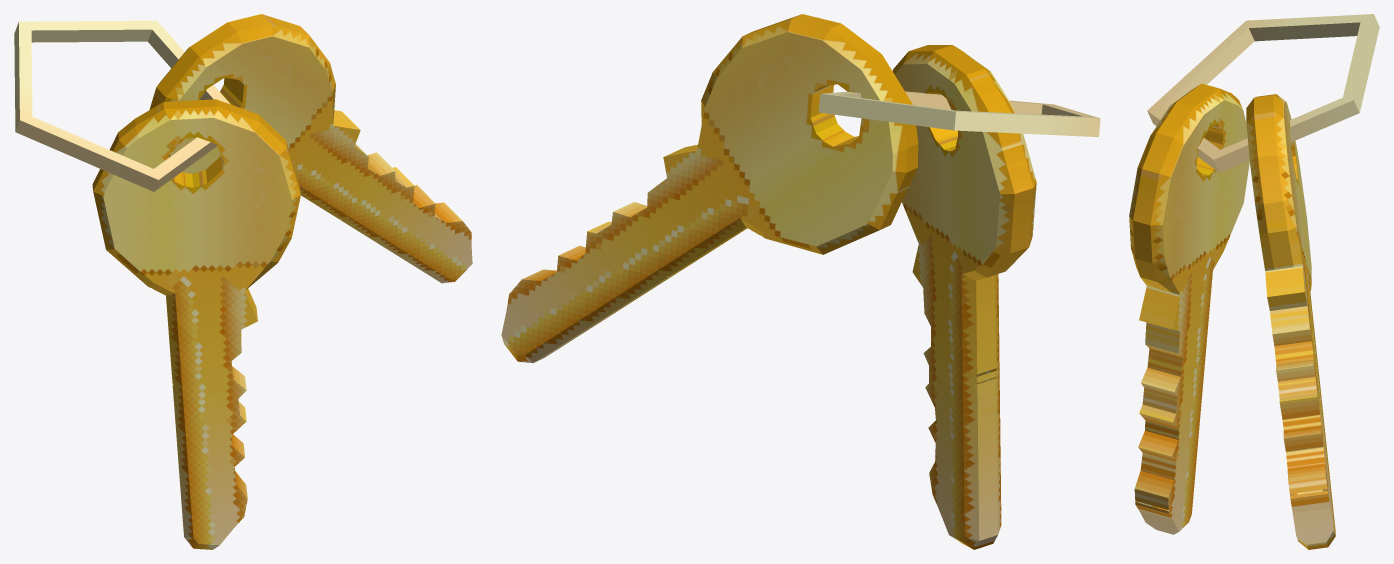
File: Llaves.fbx
3 renders of one model, left to right at view 1: azimuth 30°, elevation 25°; view 2: azimuth 150°, elevation 25°; view 3: azimuth 270°, elevation 25°, orthographic. The views are drawn at different scales.
Parts seen in each view (by area): view 1: Llaves; view 2: Llaves; view 3: Llaves.
Part boxes in pixels (x1,y1,x2,y2): Llaves: [14, 14, 472, 549]; Llaves: [501, 14, 1100, 549]; Llaves: [1129, 14, 1379, 549].
Size of the model in its own units: 245 by 230 by 110.
Materials: 1 (1 with a texture image).
